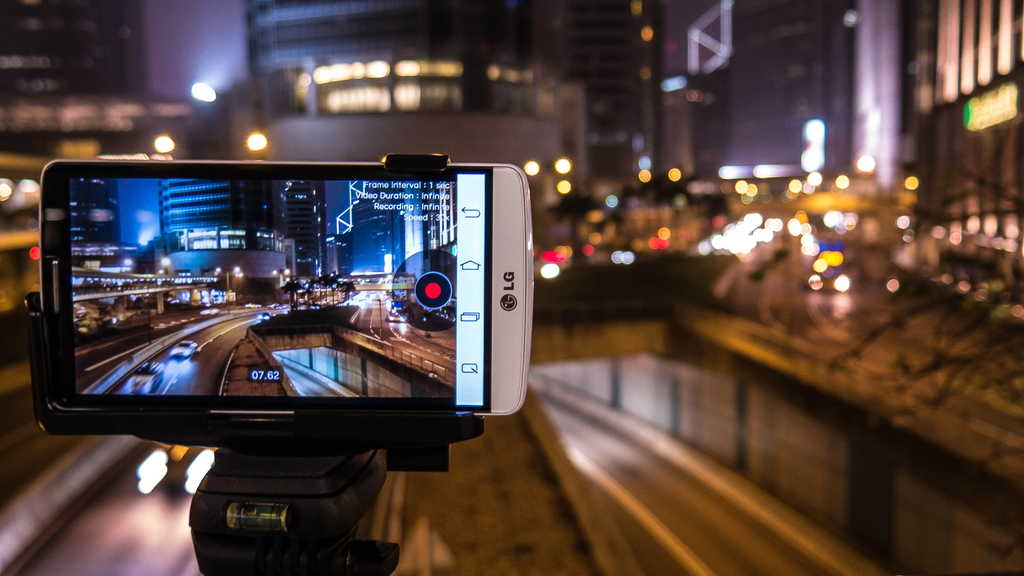Mobile-phone: (31, 159, 534, 420)
